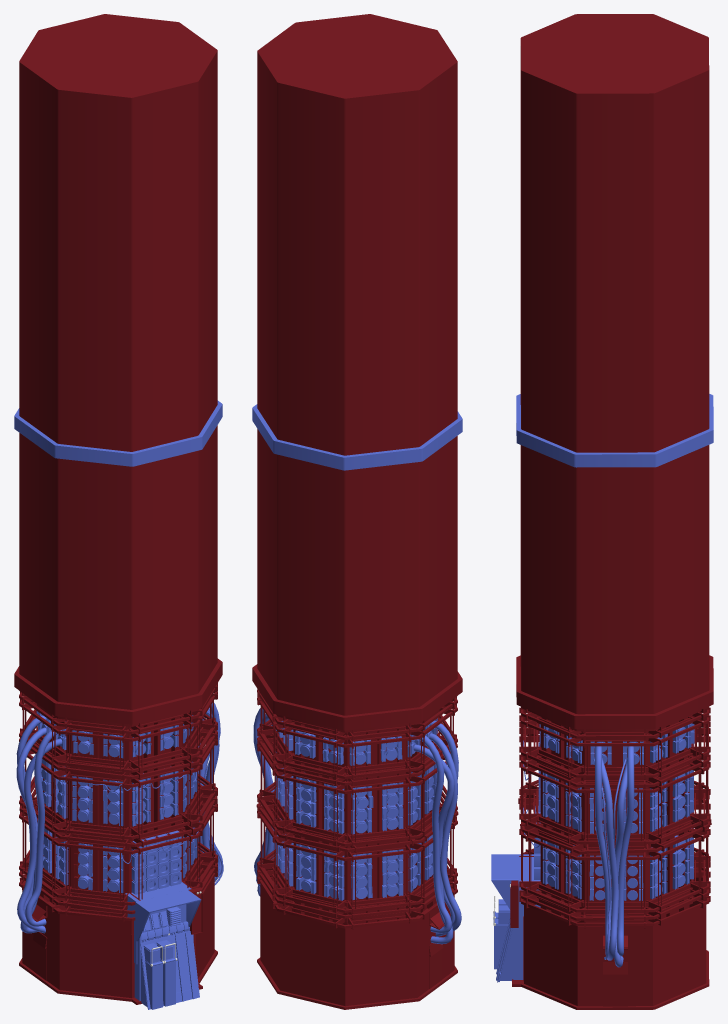
The model's file is SM_ProcesseurUPDATE.fbx.
3 renders of one model, left to right at view 1: azimuth 30°, elevation 25°; view 2: azimuth 150°, elevation 25°; view 3: azimuth 270°, elevation 25°, orthographic.
Visible parts, largest first — view 1: Object009, Object010, Cylinder1991; view 2: Object009, Object010, Cylinder1991; view 3: Object009, Object010, Cylinder1991.
Boxes of the visible parts, x1,y1,x2,y2 form: Object009: [14, 14, 222, 1004]; Object010: [16, 703, 223, 1009]; Cylinder1991: [14, 400, 222, 466]; Object009: [252, 14, 462, 1009]; Object010: [253, 708, 461, 944]; Cylinder1991: [252, 404, 462, 470]; Object009: [510, 14, 713, 1009]; Object010: [491, 723, 694, 982]; Cylinder1991: [516, 394, 713, 467].
Bounding box in the file's own units: 513 × 2165 × 476.
